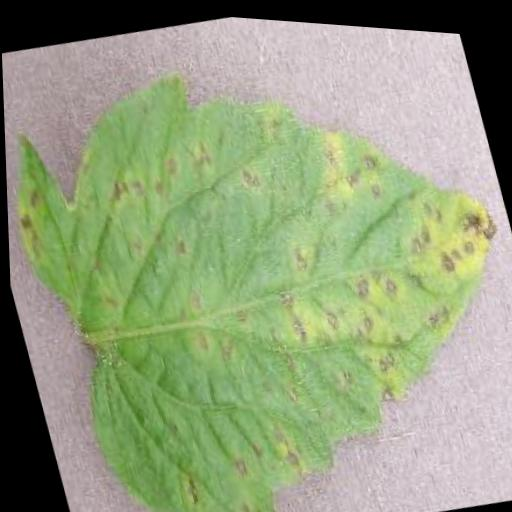Septoria: (0, 4, 512, 512)
